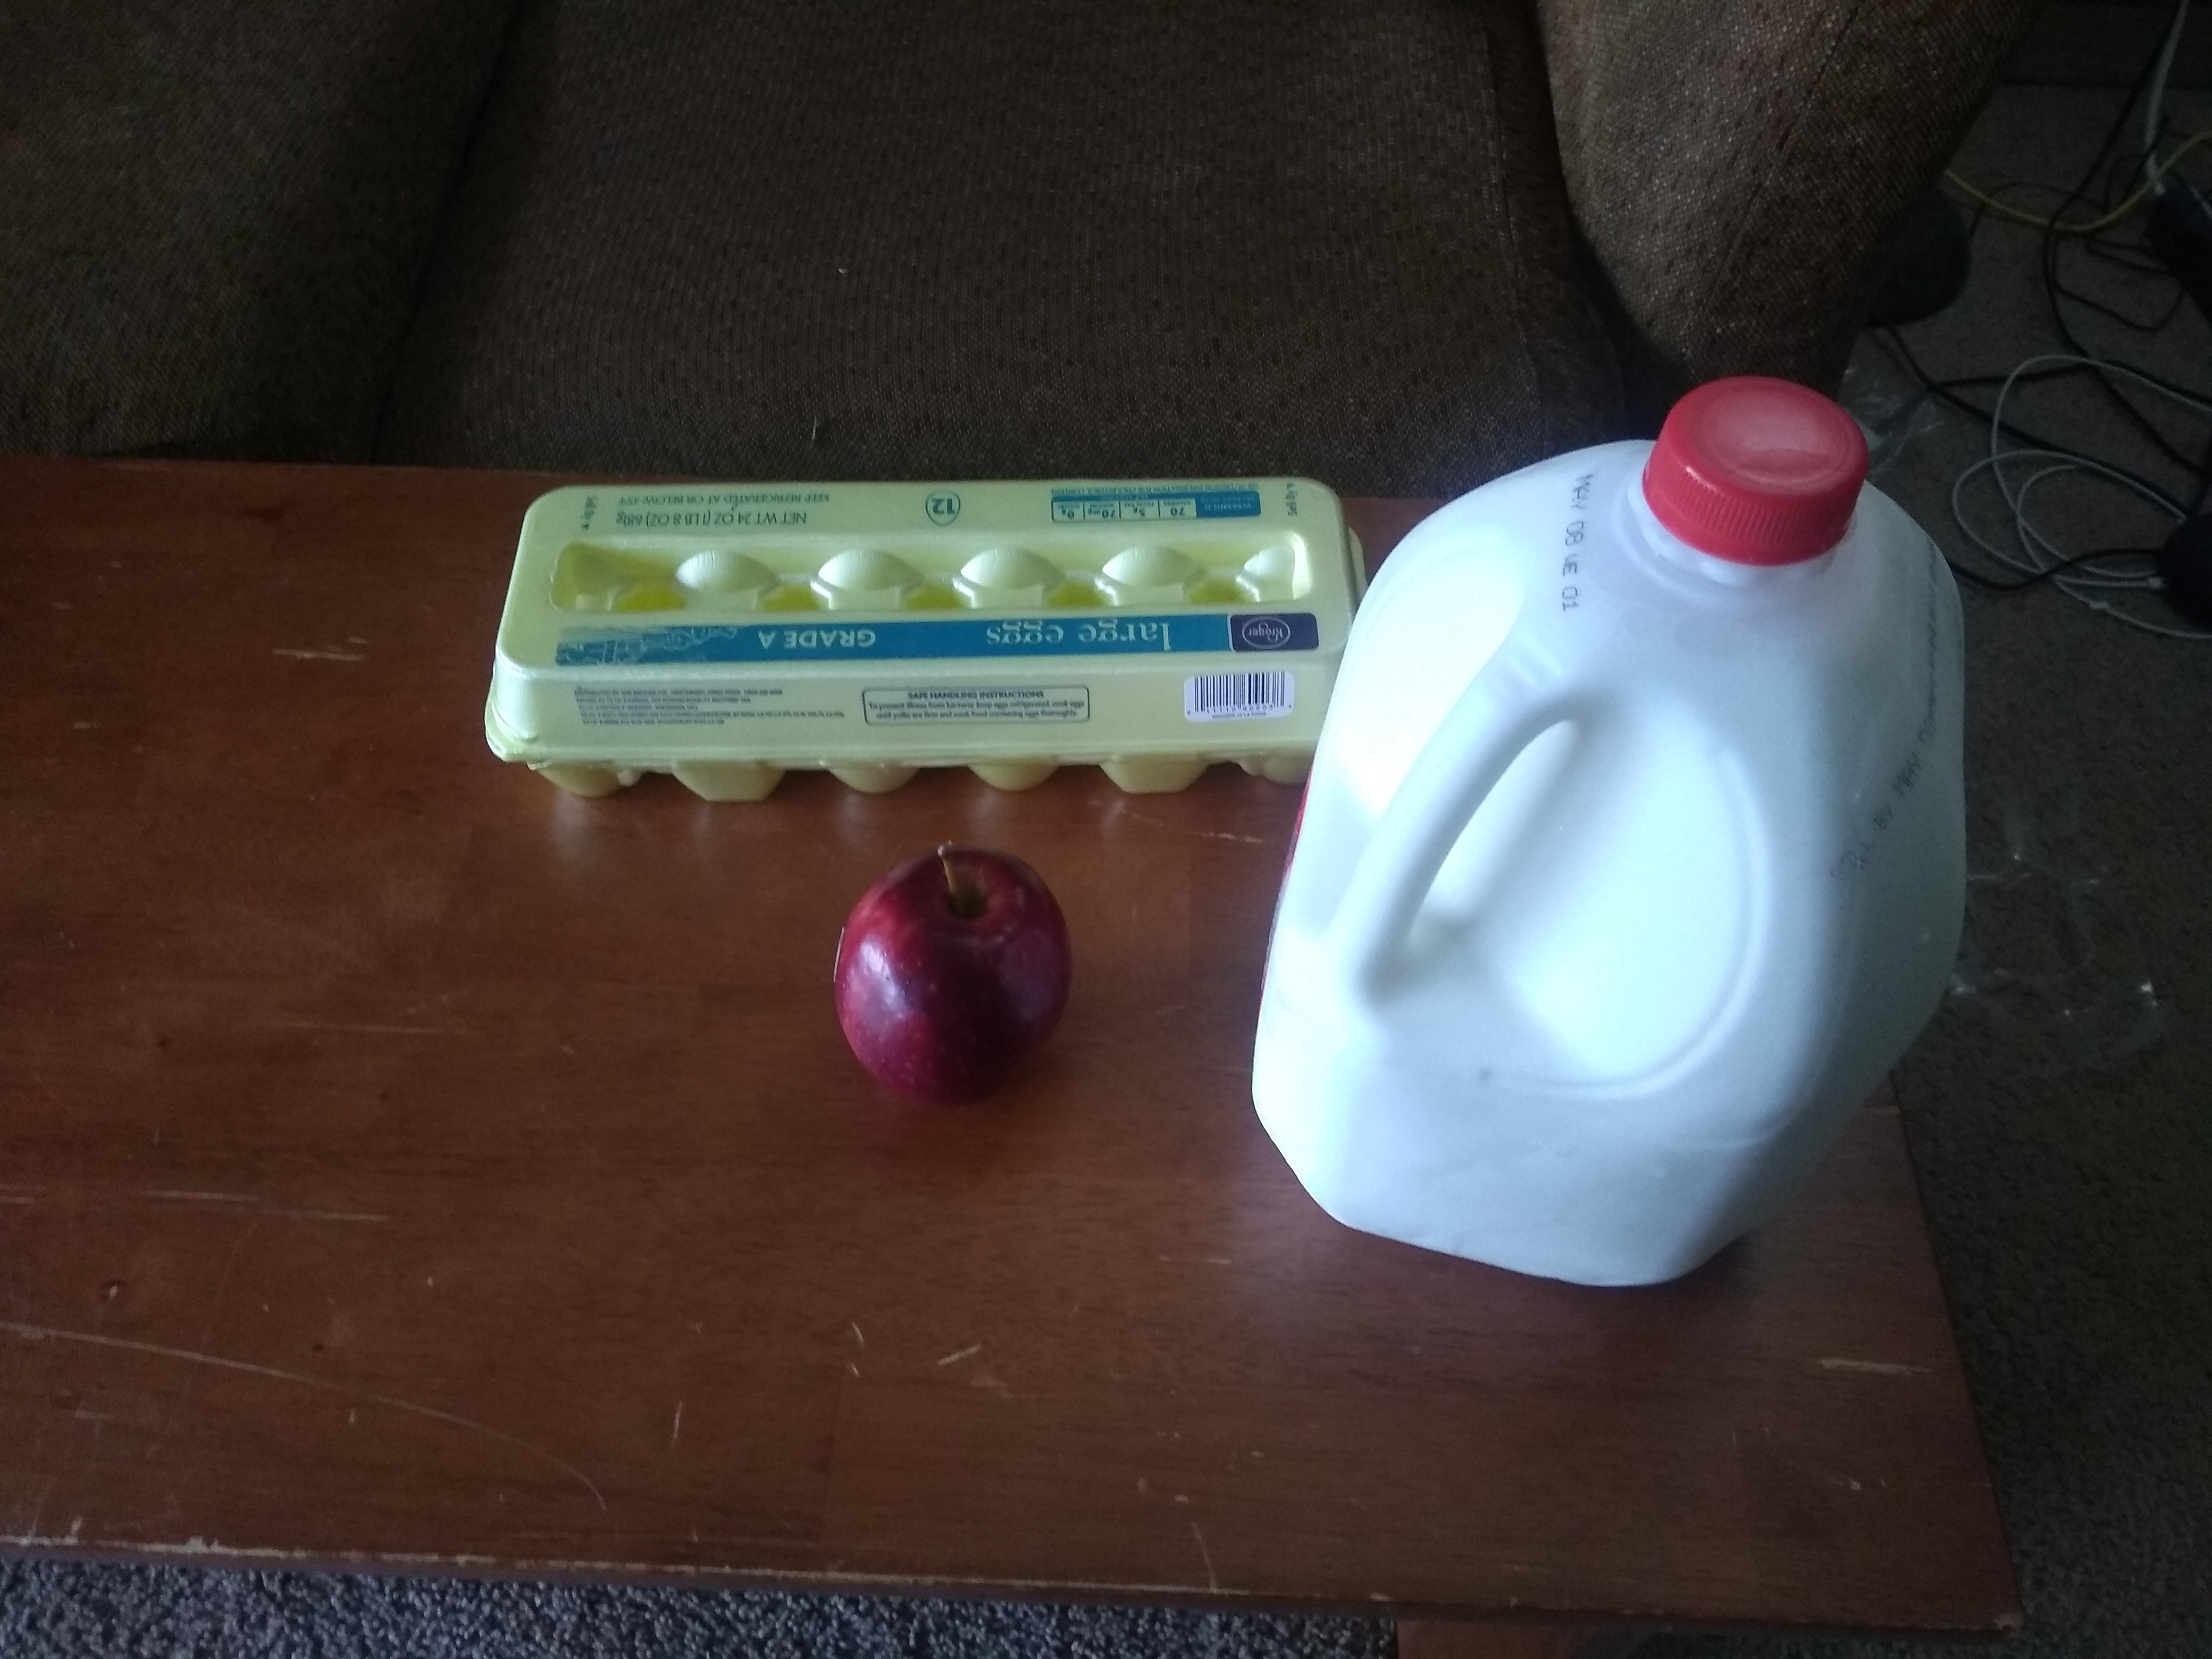apple: (815, 833, 1083, 1115)
eggs: (469, 479, 1325, 807)
milk: (1233, 408, 1968, 1303)
